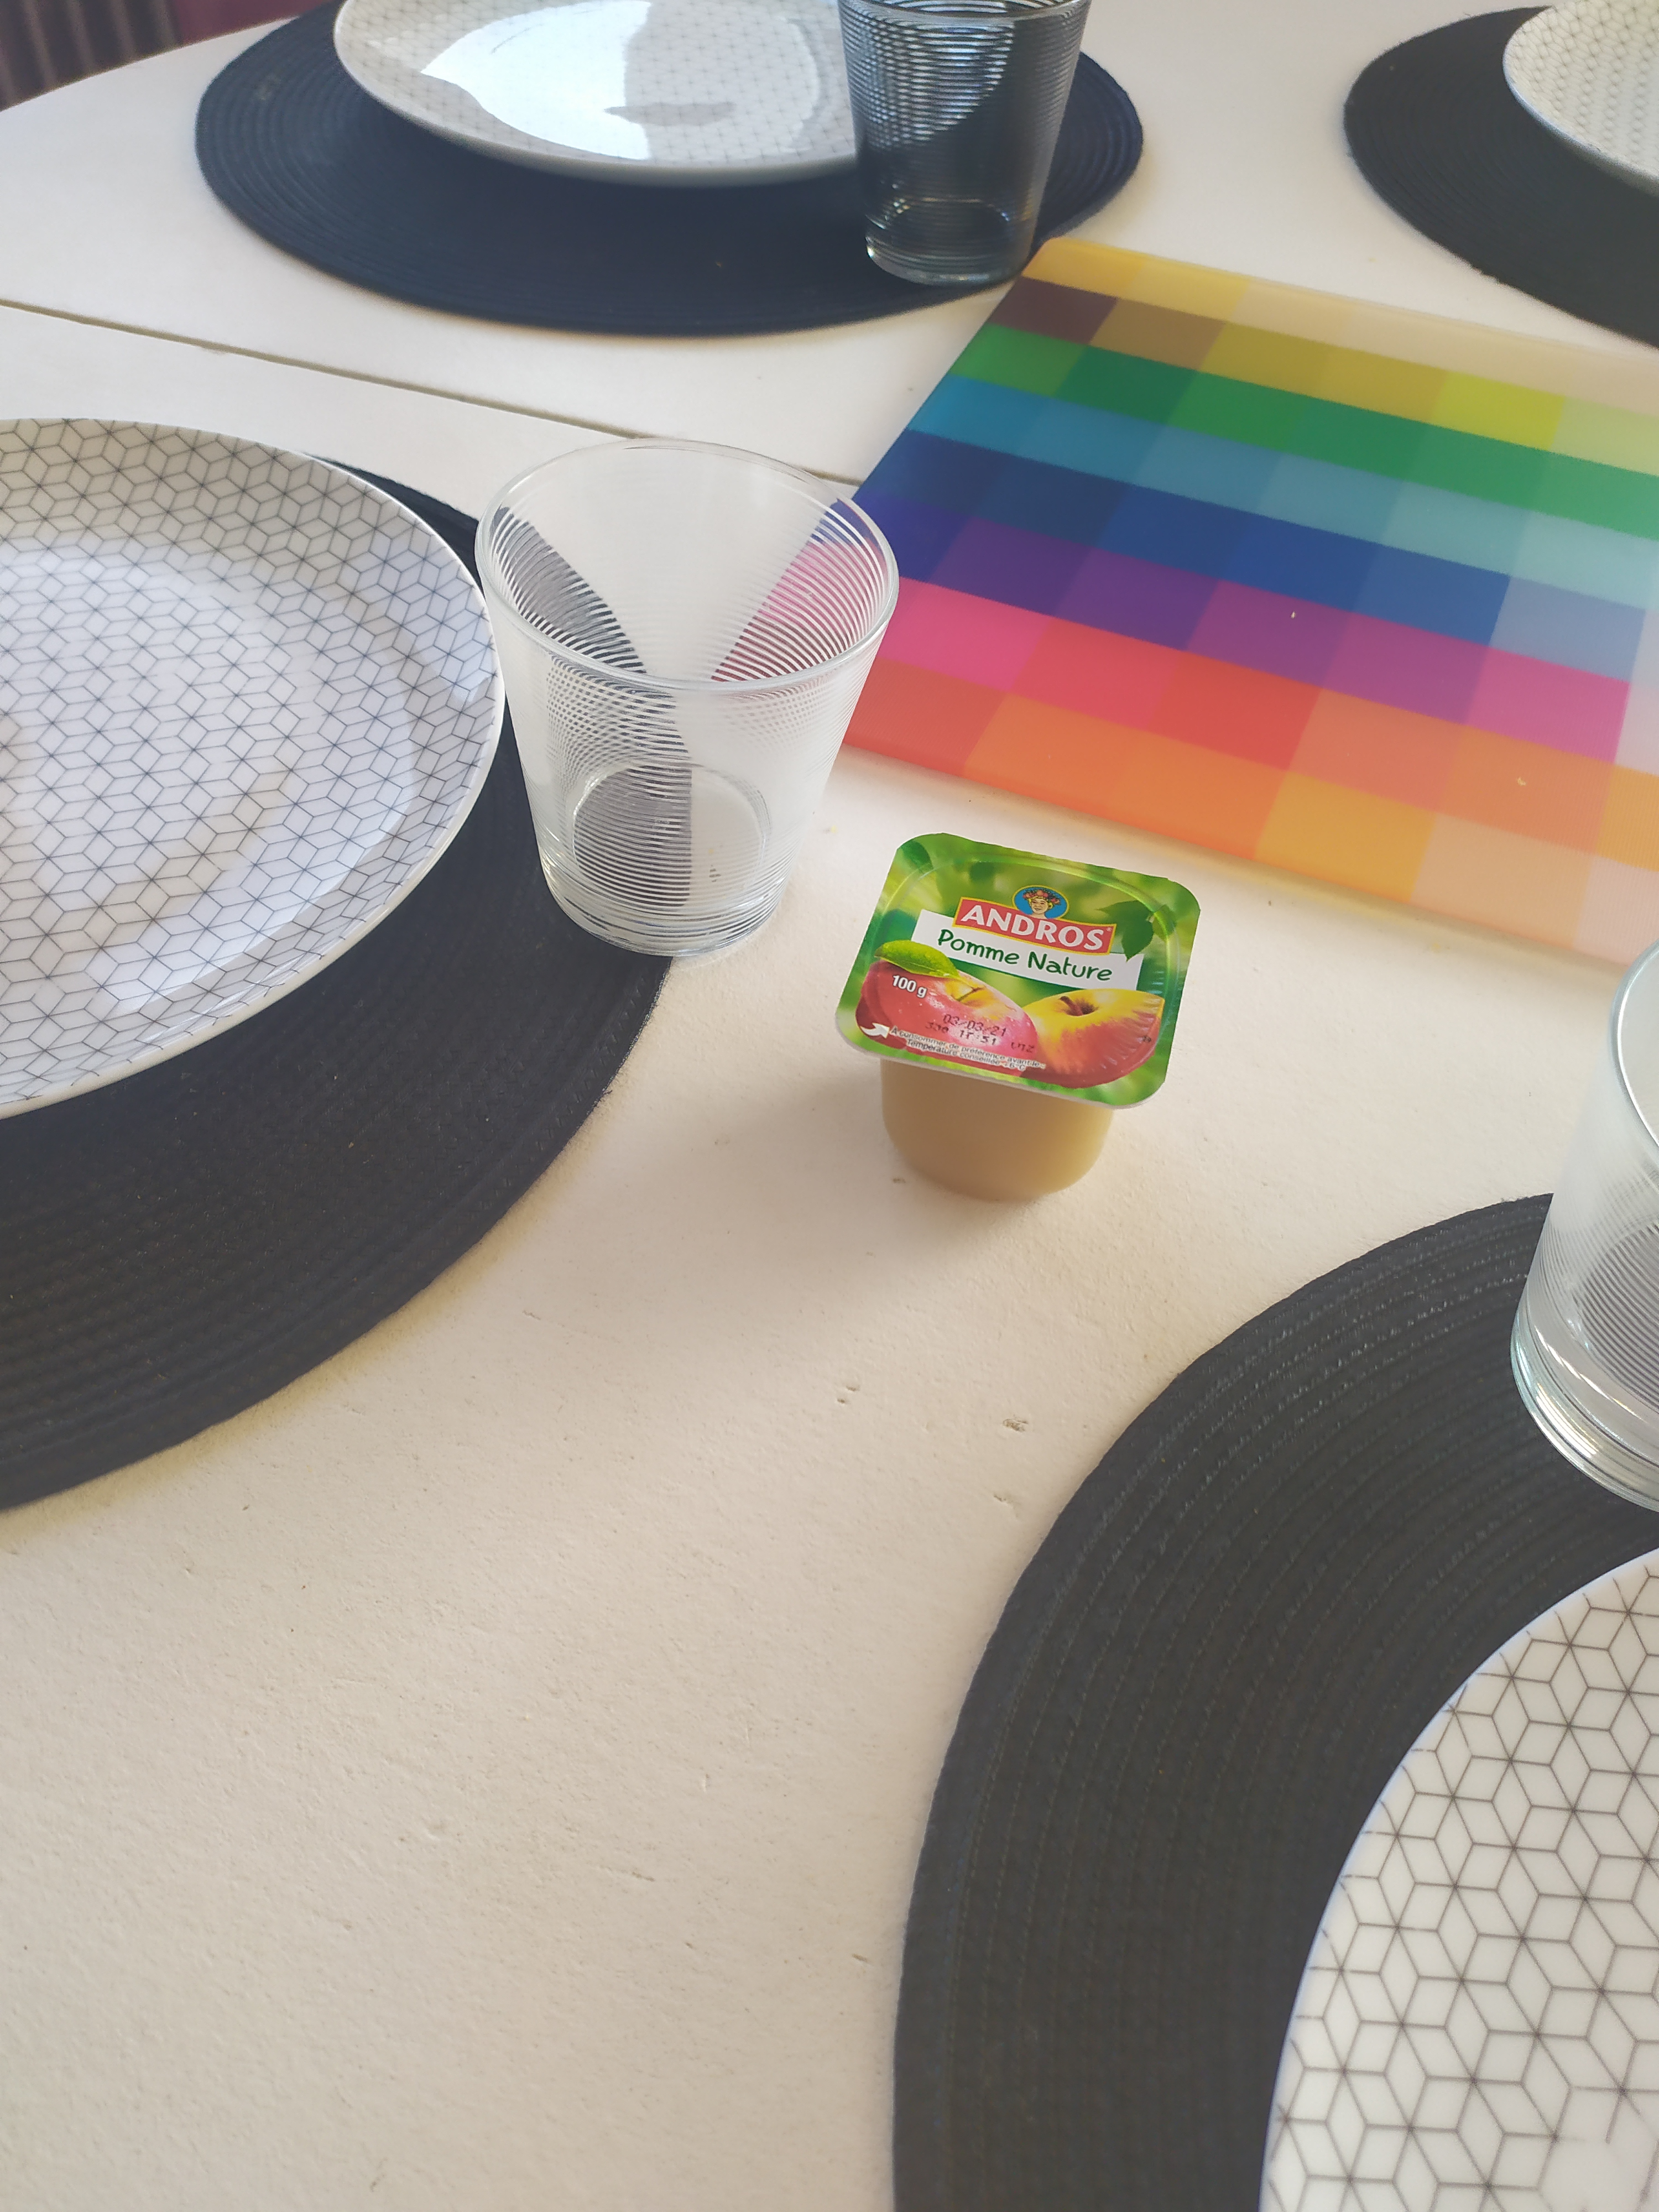compote: (842, 833, 1199, 1214)
